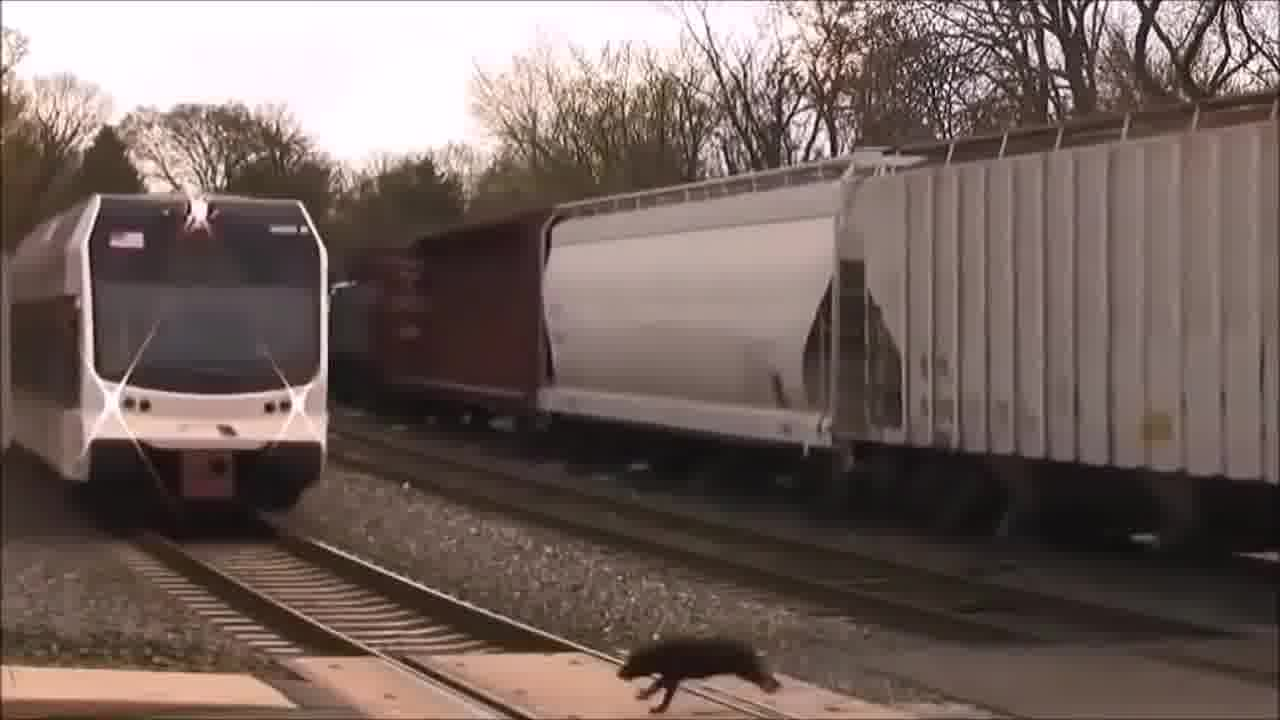crossing railway track: (571, 624, 777, 720)
